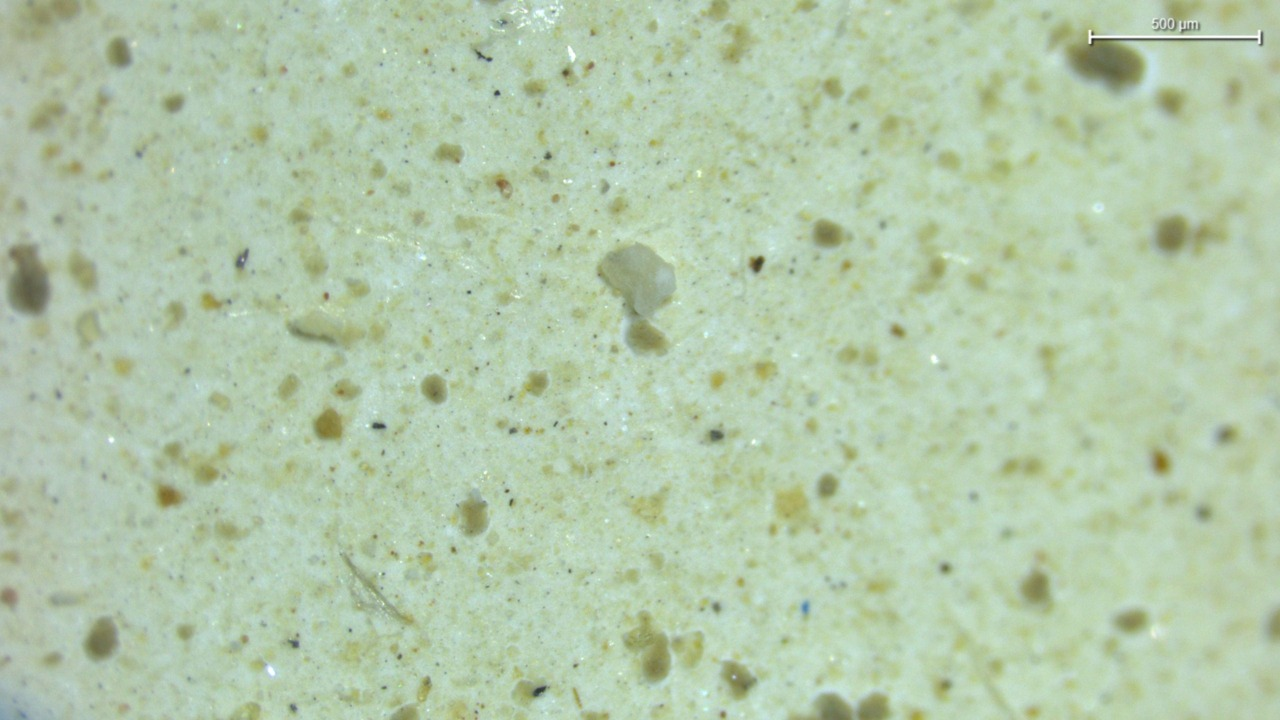microplastic_fragment: (598, 244, 676, 316), (288, 310, 363, 345)
